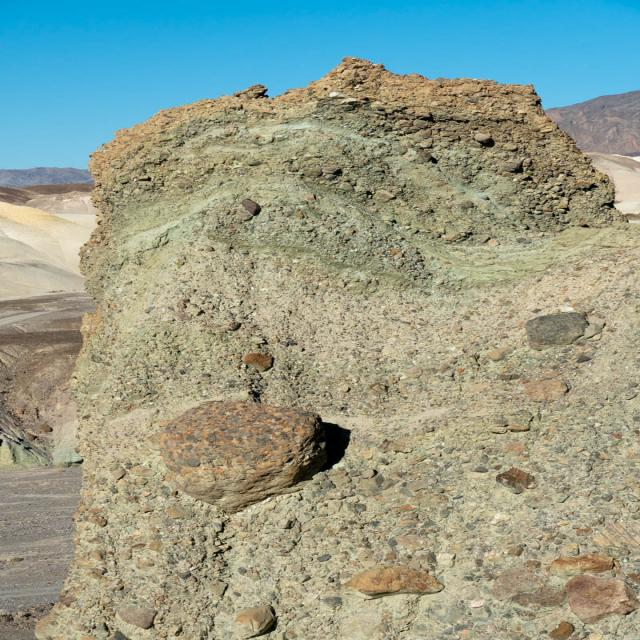Alluvial Soil: (120, 132, 549, 590)
